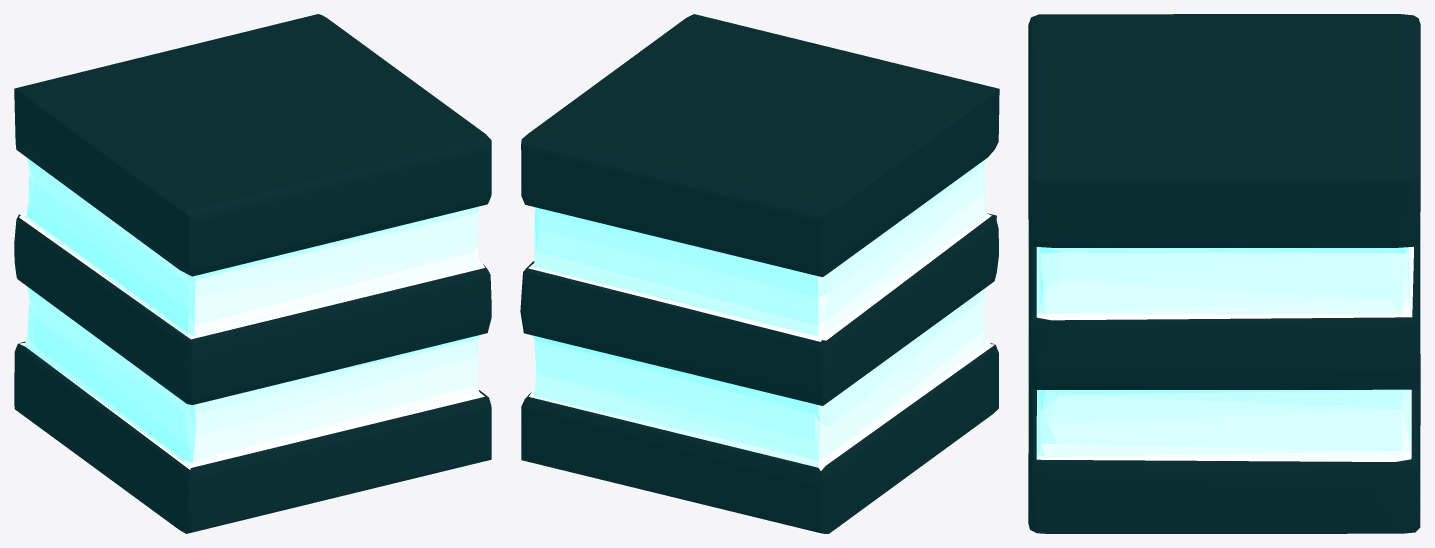
Rendered from full.glb.
3 views of the same model, side by side, from view 1: azimuth 30°, elevation 25°; view 2: azimuth 150°, elevation 25°; view 3: azimuth 270°, elevation 25° (orthographic). The views are drawn at different scales.
Visible parts, largest first — view 1: full; view 2: full; view 3: full.
Boxes of the visible parts, x1=… form: full: x1=14, y1=14, x2=491, y2=533; full: x1=520, y1=14, x2=999, y2=533; full: x1=1028, y1=14, x2=1420, y2=533.
Size of the model in its own units: 6 by 6 by 6.
